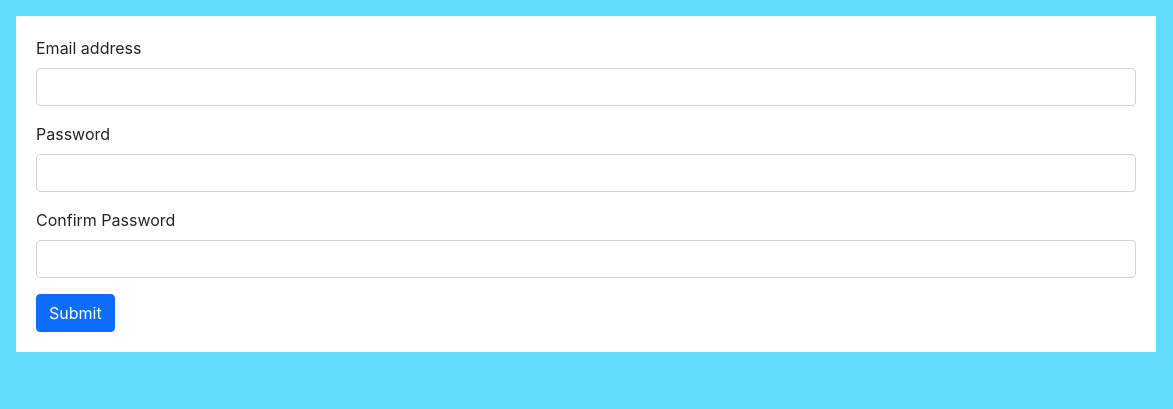
Scenario: should show password error if password is less than 5 characters
Check: the text "the password you entered should contain 5 or more characters" is not shown
In the field labelled "Email address": [586, 87] box [36,68,1136,106], type "selena@gmail.com"
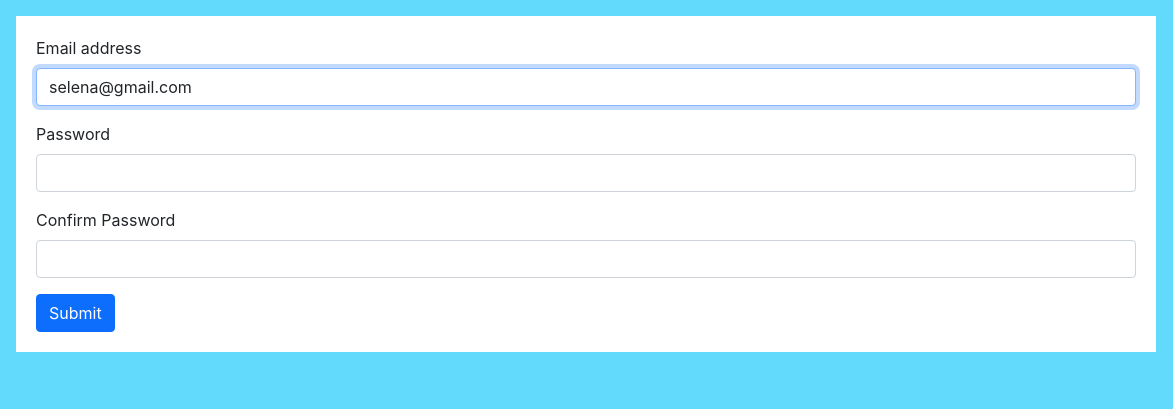
In the password field labelled "Password": [586, 173] box [36,154,1136,192], type "123"
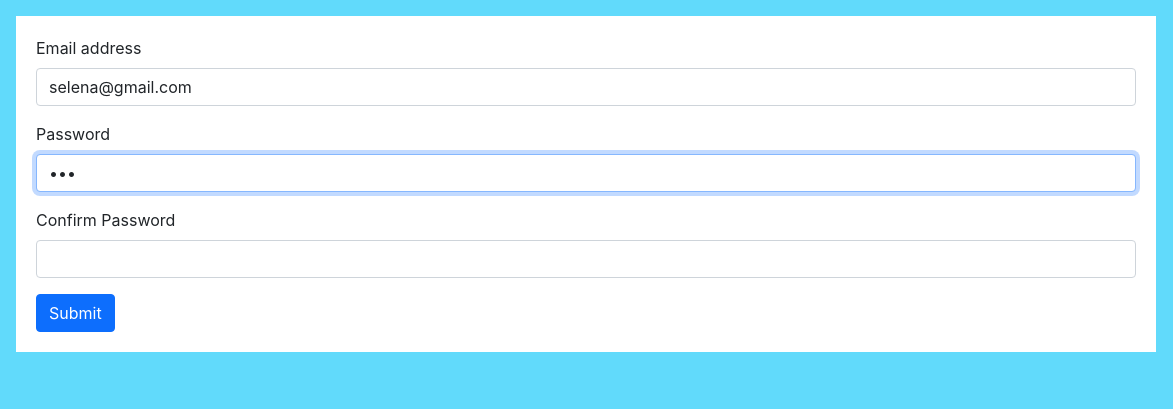
In the password field labelled "Confirm Password": [586, 259] box [36,240,1136,278], type "123"
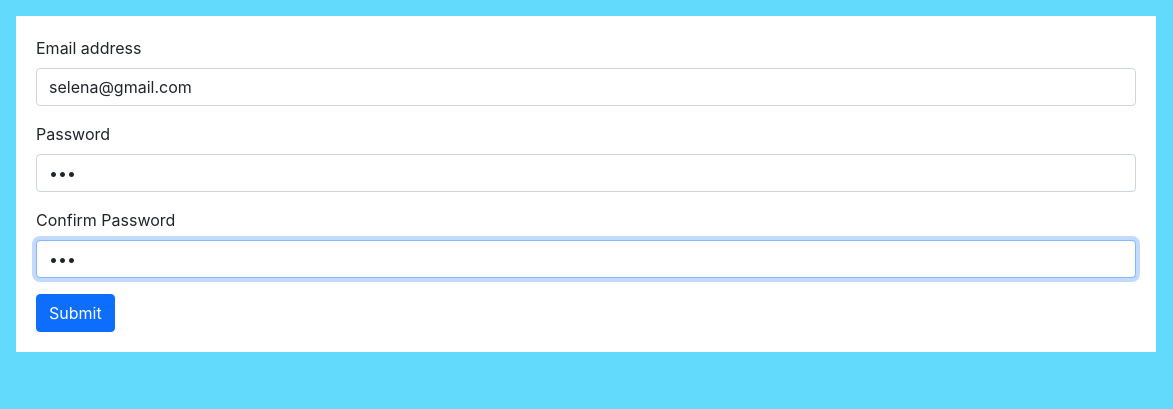
Click the button "Submit": [75, 313] box [36,294,115,332]
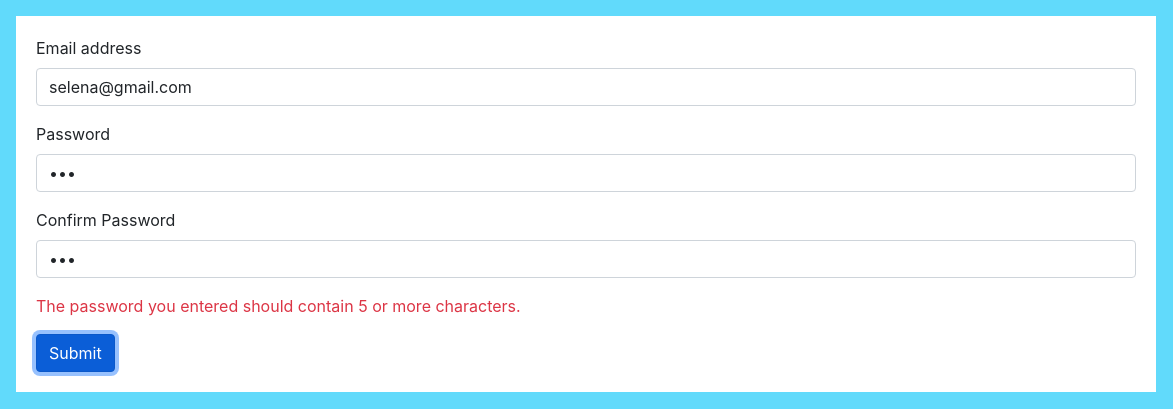
Check: the text "The password you entered should contain 5 or more characters." is shown, box [36,296,521,316]
